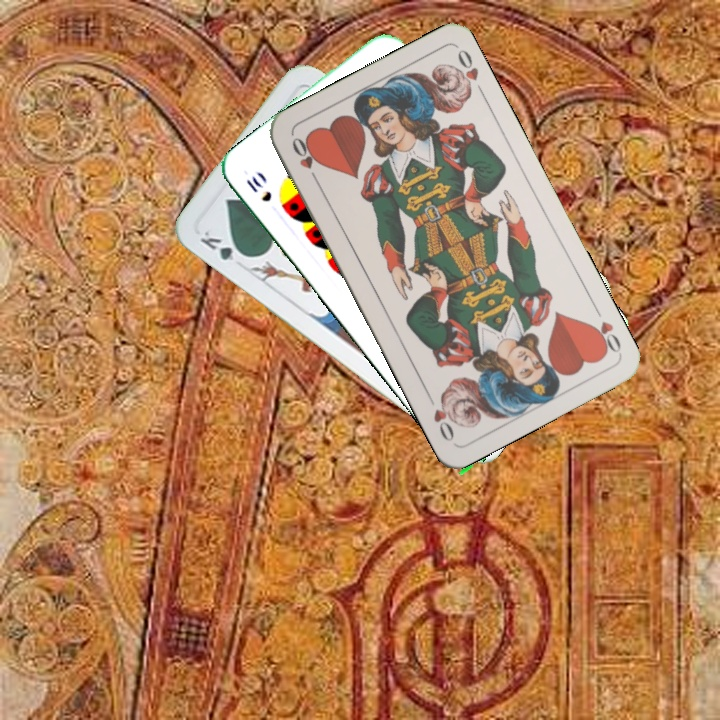GK: (195, 226, 251, 265)
HO: (585, 301, 624, 358), (288, 133, 323, 187)
S10: (242, 168, 275, 205)
